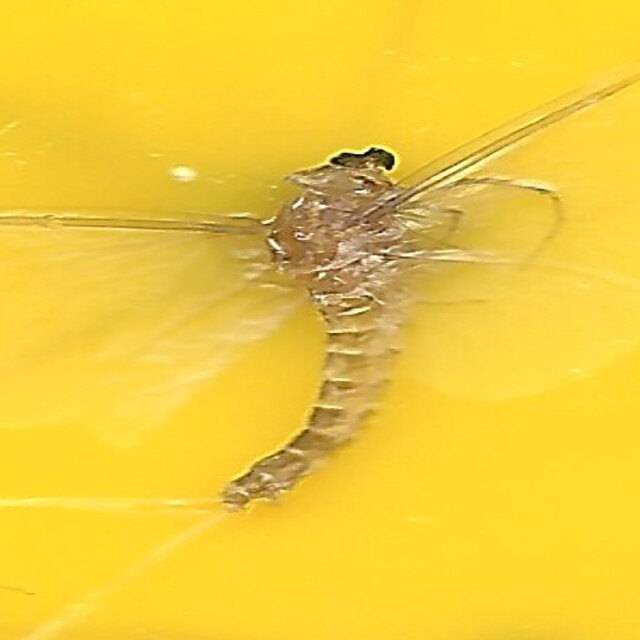Ephemeroptera: (215, 130, 425, 510)
